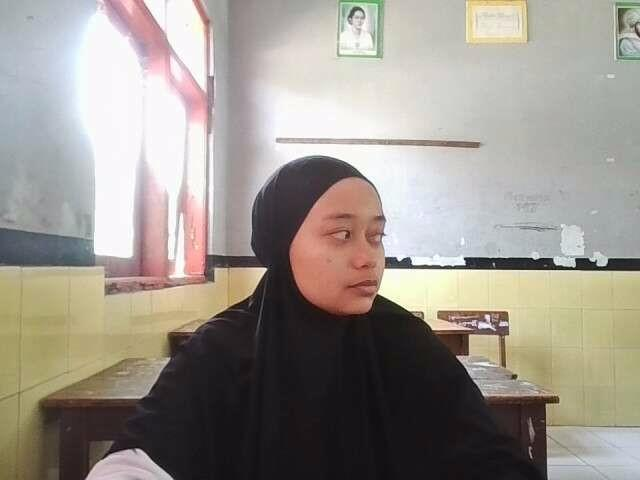cheating: (80, 144, 552, 479)
